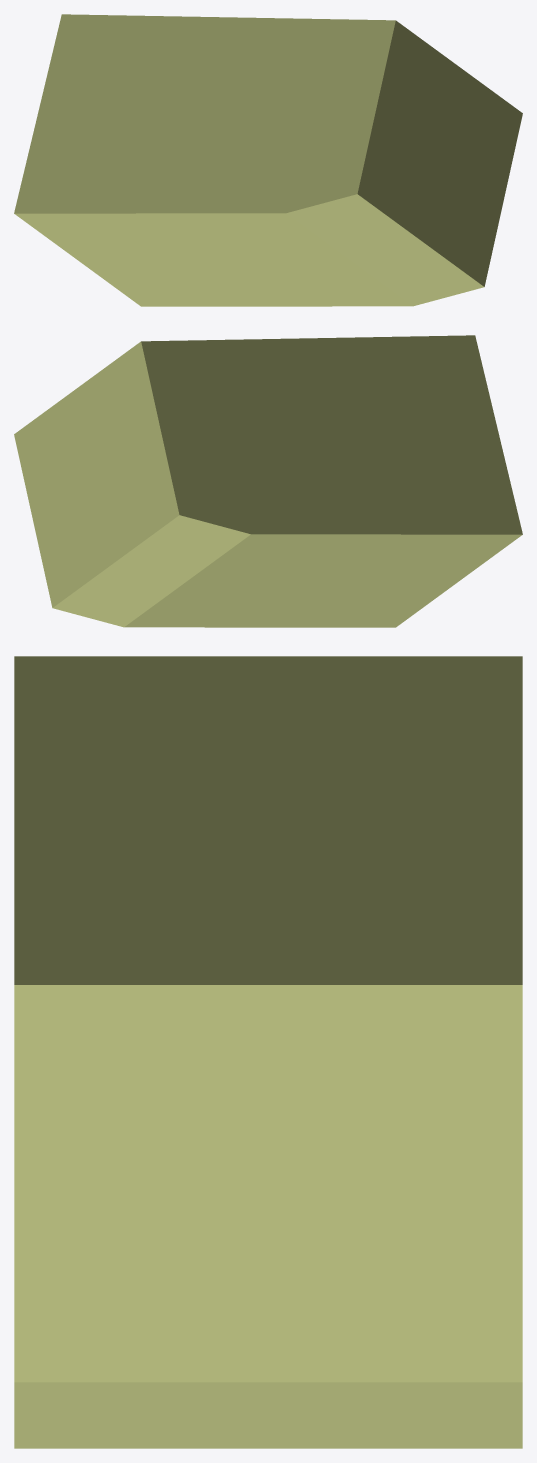
The picture shows the model from 3 angles, top to bottom: view 1: azimuth 30°, elevation 25°; view 2: azimuth 150°, elevation 25°; view 3: azimuth 270°, elevation 25°; orthographic projection. The views are drawn at different scales.
Visible parts, largest first — view 1: 0_1_0_1_3_3_3_3_2_1_3; view 2: 0_1_0_1_3_3_3_3_2_1_3; view 3: 0_1_0_1_3_3_3_3_2_1_3.
Part boxes in pixels (bbox=[...]): 0_1_0_1_3_3_3_3_2_1_3: bbox=[14, 14, 522, 306]; 0_1_0_1_3_3_3_3_2_1_3: bbox=[14, 335, 522, 627]; 0_1_0_1_3_3_3_3_2_1_3: bbox=[14, 656, 522, 1448].
Size of the model in its own units: 10.41 by 6.61 by 6.
